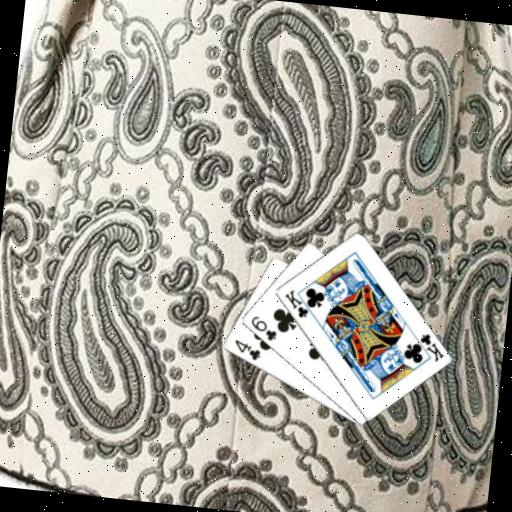4C: (229, 337, 263, 363)
6C: (246, 313, 280, 344)
KC: (279, 285, 318, 321), (408, 329, 448, 364)
